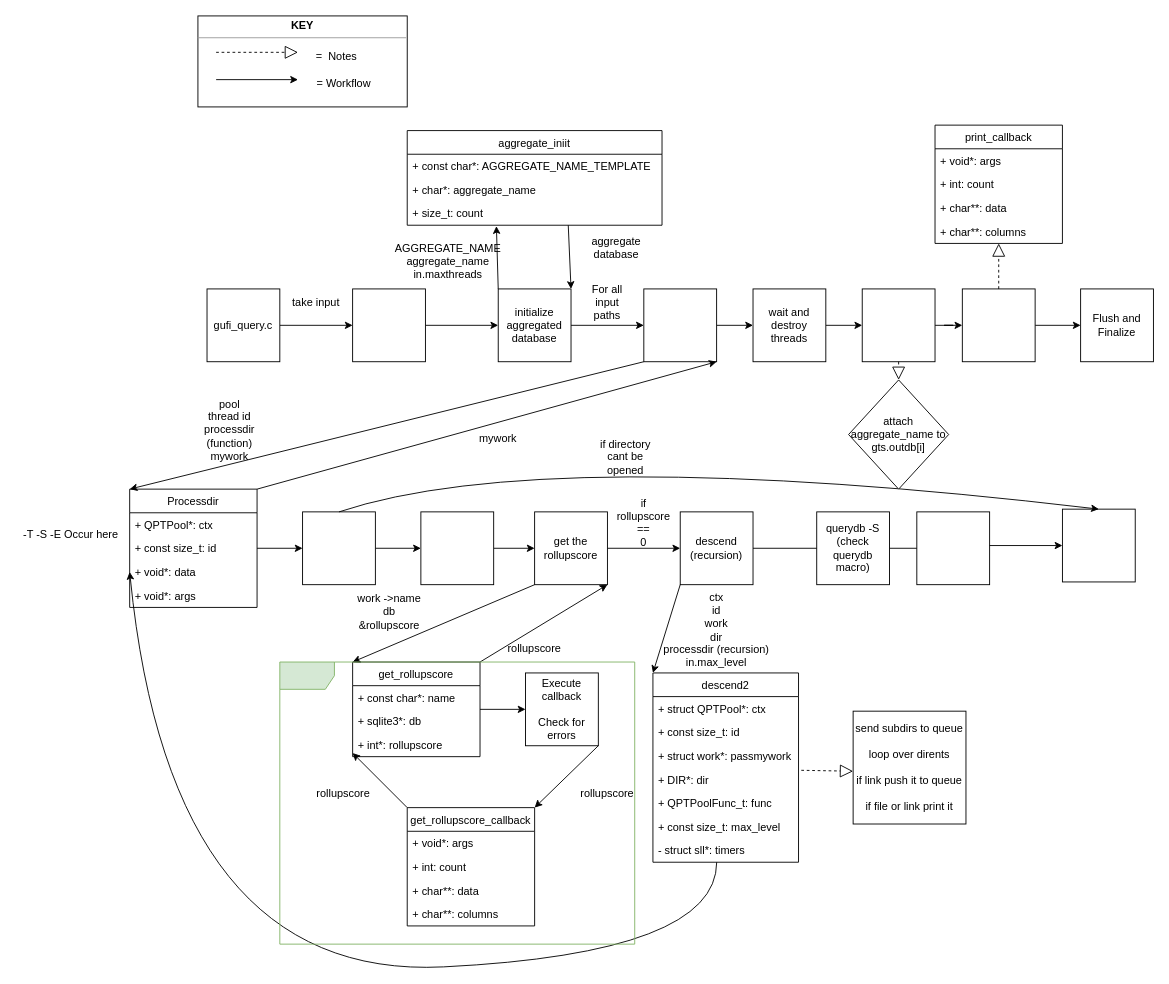
This 1169x984 diagram has some shape labels left out. The centre of each missing label's shape, as x and y in pixels:
aggregate intermediate results: [898,325]
close dir and free (GO TO wait and destroy threads): [1098,545]
dbutils.c: [457,802]
Execute final aggreation: [998,325]
initialize pthreads and output methods: [388,325]
open database: [338,548]
process dir: [680,325]
querydb -E (check querydb macro): [953,548]
querydb -T (check querydb macro): [457,548]
